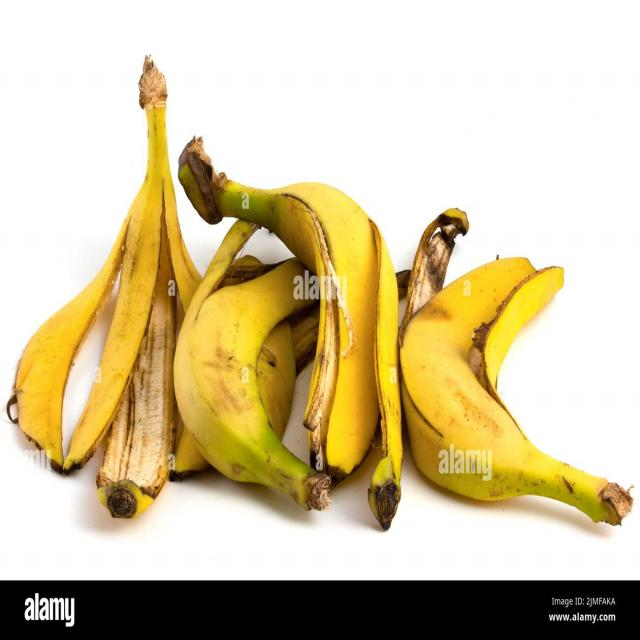Cascara de banano: (15, 68, 204, 516)
